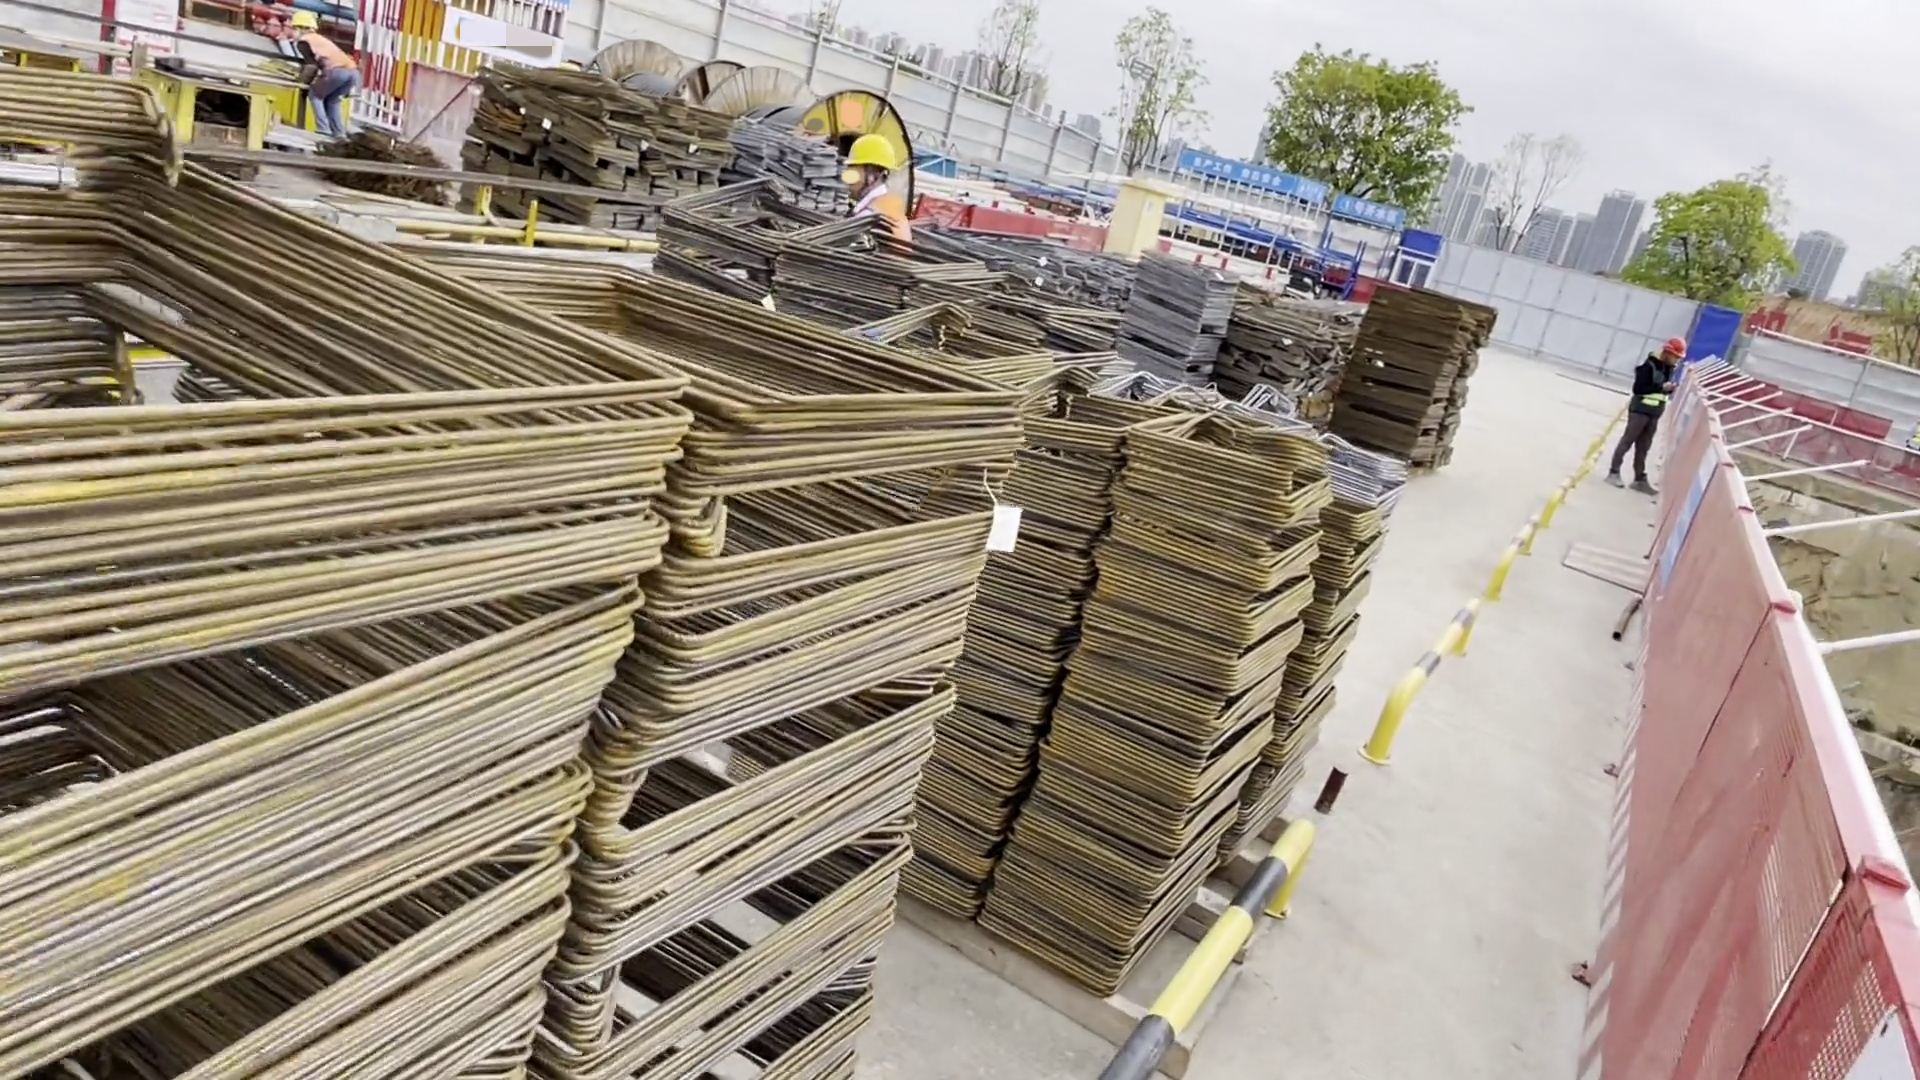cutter: (153, 49, 291, 168)
ebox: (1107, 183, 1161, 263)
fence: (1647, 386, 1917, 1080)
helmet: (842, 132, 904, 172), (1667, 341, 1688, 365), (283, 11, 312, 27)
person: (1601, 340, 1685, 493), (278, 7, 354, 146), (841, 134, 913, 252)
slogan: (1183, 146, 1413, 237)
vest: (862, 190, 908, 236), (311, 33, 348, 74)
